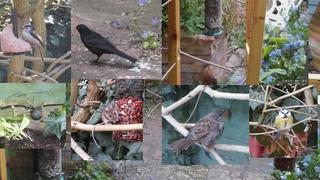blackbird: (72, 24, 138, 67)
blue tit: (273, 108, 294, 140)
dunnock: (167, 109, 225, 153)
long tailed tit: (21, 24, 47, 74)
mouse: (91, 103, 119, 150)
sparrow: (26, 107, 42, 122)
